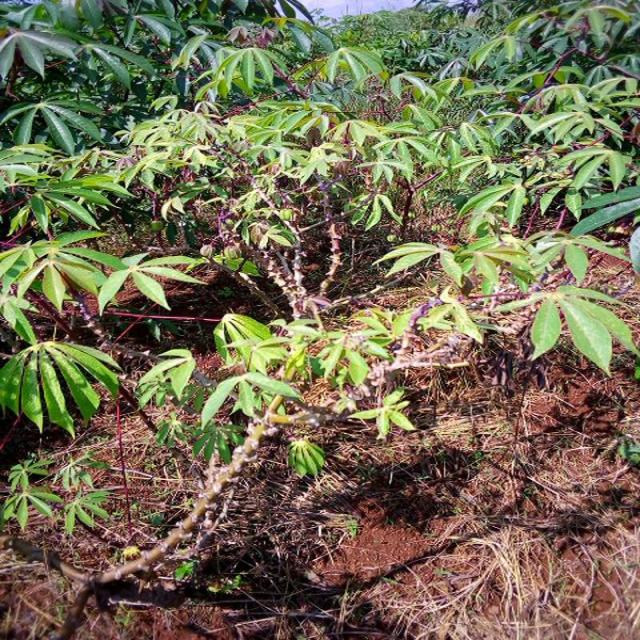cassava leaf: (0, 337, 122, 438)
